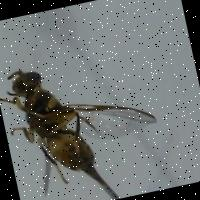Oriental-fruit-fly: (0, 28, 170, 200)
